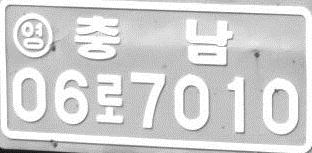0: (262, 76, 299, 135), (173, 73, 210, 131), (11, 66, 47, 122)
1: (219, 76, 254, 133)
6: (53, 68, 89, 124)
7: (130, 71, 165, 129)
로: (94, 73, 125, 124)
영: (12, 12, 53, 58)
충남_D: (73, 14, 233, 66)
